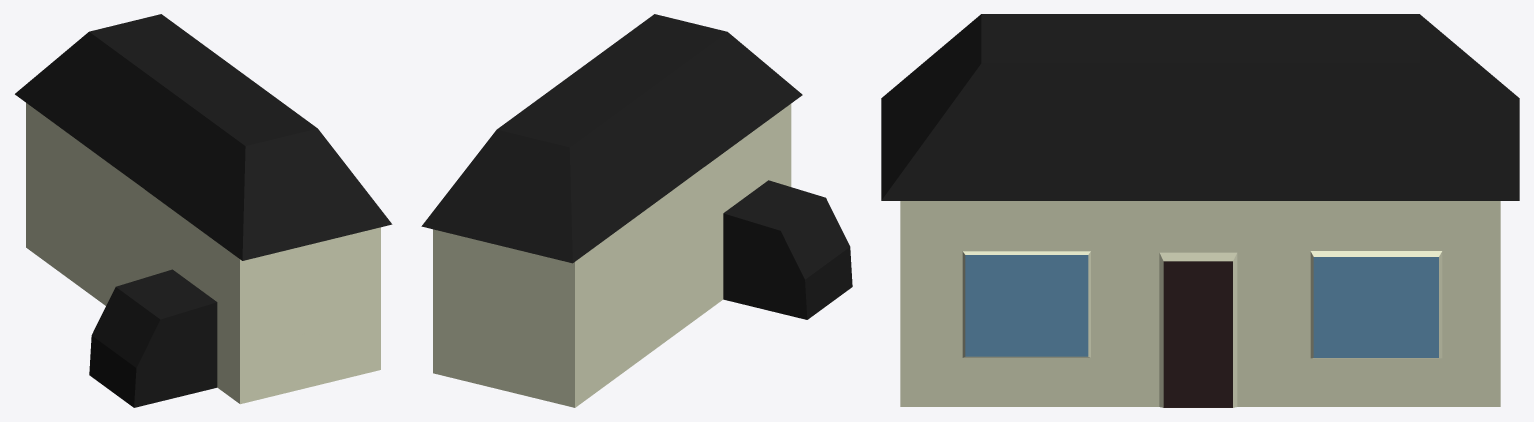
File: edificio_00.fbx
The picture shows the model from 3 angles, left to right: view 1: azimuth 30°, elevation 25°; view 2: azimuth 150°, elevation 25°; view 3: azimuth 270°, elevation 25°; orthographic projection. The views are drawn at different scales.
Parts seen in each view (by area): view 1: Cube; view 2: Cube; view 3: Cube.
Boxes of the visible parts, <box> form: Cube: <box>15,14,392,407</box>; Cube: <box>421,14,852,407</box>; Cube: <box>881,14,1519,407</box>.
Size of the model in its own units: 1289 by 1231 by 2226.
